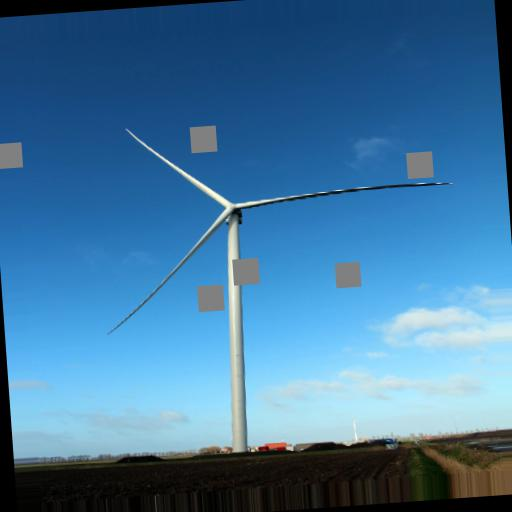wind turbine: (108, 126, 455, 444)
